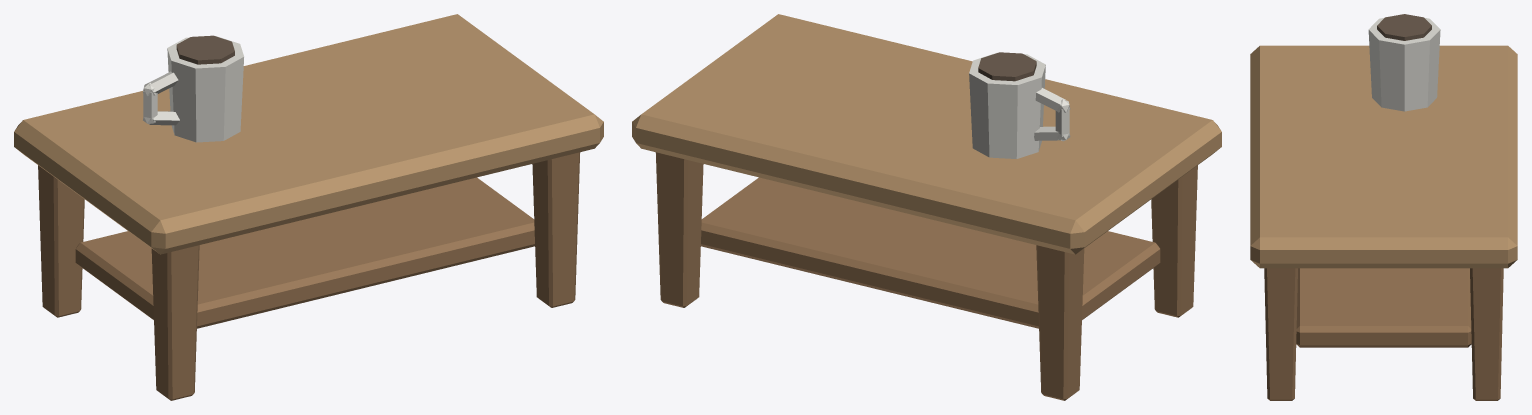
The model's file is BUILD0045_LowCoffeeTable.fbx.
3 renders of one model, left to right at view 1: azimuth 30°, elevation 25°; view 2: azimuth 150°, elevation 25°; view 3: azimuth 270°, elevation 25°, orthographic. The views are drawn at different scales.
Parts seen in each view (by area): view 1: BUILD0045_LowCoffeeTable; view 2: BUILD0045_LowCoffeeTable; view 3: BUILD0045_LowCoffeeTable.
Boxes of the visible parts, box(x1,y1,x2,y2) form: BUILD0045_LowCoffeeTable: box(14, 14, 603, 400); BUILD0045_LowCoffeeTable: box(632, 14, 1221, 400); BUILD0045_LowCoffeeTable: box(1250, 14, 1517, 400).
Size of the model in its own units: 1.38 by 0.7925 by 0.78.
